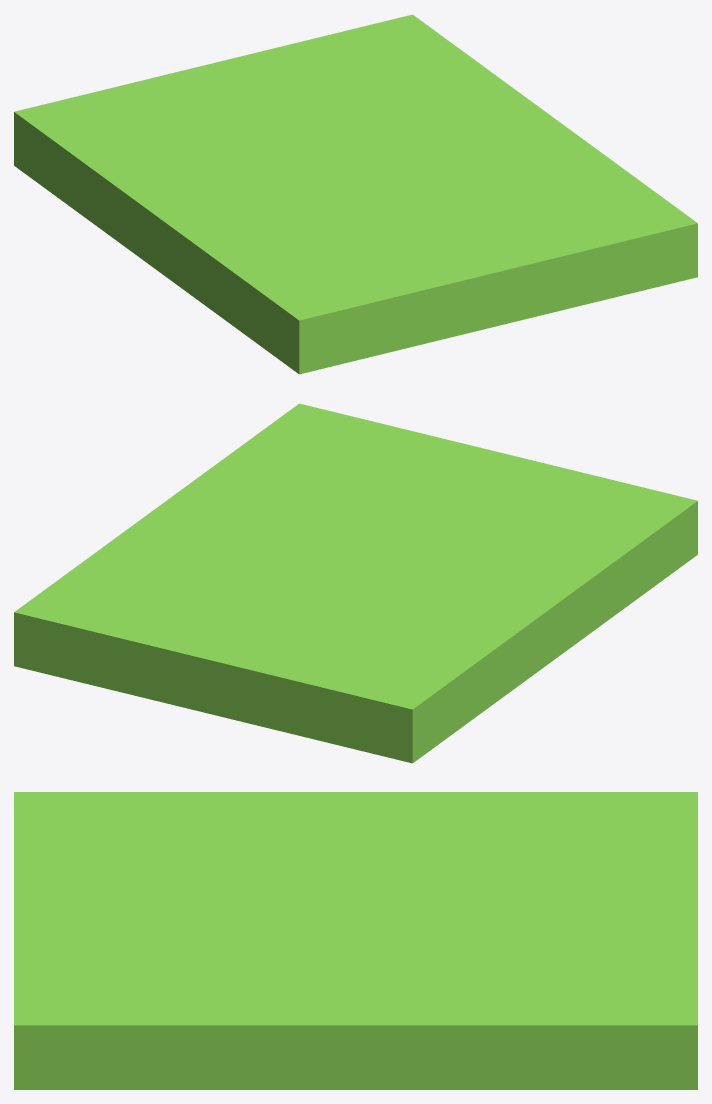
Rendered from BisteccaNoIntSost.fbx.
3 renders of one model, top to bottom at view 1: azimuth 30°, elevation 25°; view 2: azimuth 150°, elevation 25°; view 3: azimuth 270°, elevation 25°, orthographic. The views are drawn at different scales.
Visible parts, largest first — view 1: Bistecca.004; view 2: Bistecca.004; view 3: Bistecca.004.
Boxes of the visible parts, box(x1,y1,x2,y2) form: Bistecca.004: box(14, 14, 697, 374); Bistecca.004: box(14, 403, 697, 763); Bistecca.004: box(14, 792, 697, 1089).
Size of the model in its own units: 725 by 93.62 by 898.
